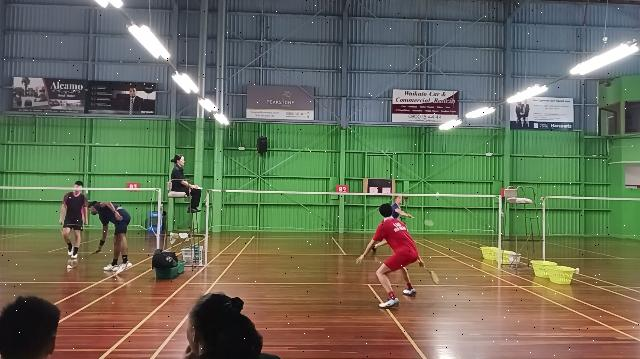Shuttlecock: (433, 190, 443, 200)
